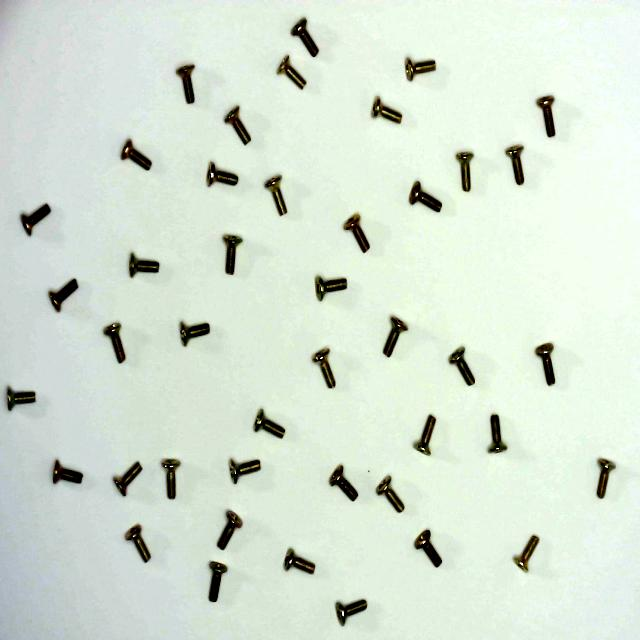Screws: (410, 526, 446, 570), (403, 177, 443, 216), (445, 344, 478, 390), (376, 468, 406, 518), (222, 101, 253, 149), (98, 320, 131, 364), (325, 462, 359, 503), (413, 411, 440, 462), (117, 136, 154, 173), (252, 402, 287, 441), (158, 455, 186, 503), (313, 270, 353, 303), (290, 15, 321, 57), (382, 312, 409, 360), (533, 340, 560, 388), (173, 62, 200, 110), (264, 171, 291, 219), (283, 548, 319, 584), (341, 210, 370, 254), (219, 228, 244, 279), (205, 162, 242, 196), (177, 316, 214, 350), (536, 92, 562, 140), (504, 144, 532, 188), (18, 202, 53, 237), (46, 277, 81, 312), (276, 56, 310, 92), (127, 247, 161, 283), (112, 459, 144, 497), (124, 524, 156, 562), (310, 342, 336, 388), (216, 506, 242, 552), (333, 594, 367, 628), (5, 382, 38, 416), (369, 97, 406, 127), (455, 147, 478, 195), (487, 408, 508, 460), (207, 556, 229, 605), (595, 452, 616, 502), (402, 57, 442, 83), (51, 456, 85, 486), (511, 532, 536, 572), (228, 457, 262, 485)
